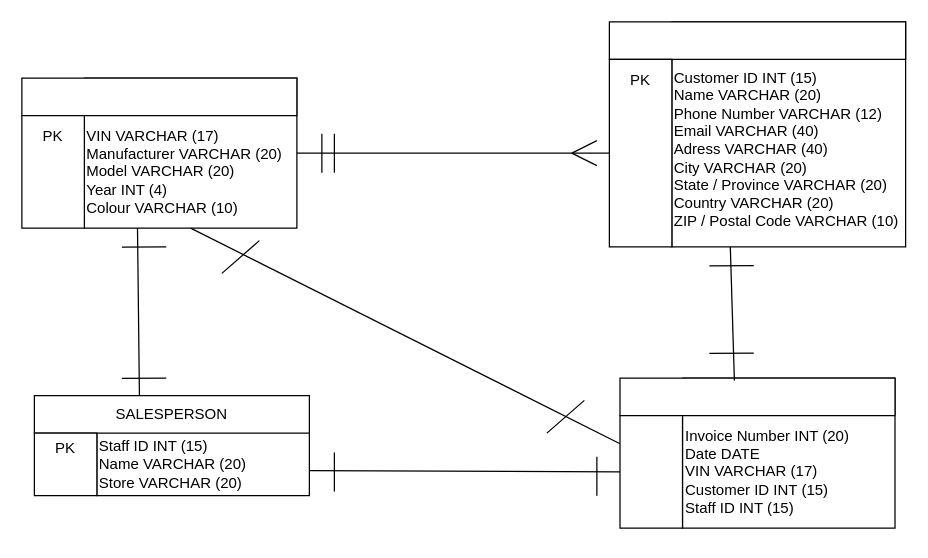
The diagram is 928 pixels wide and 558 high, and some of its shapes have lost their labels. The shapes that lost their labels are listed below. From the top down, each one's centre as x and y in pixels, then its label:
(x=757, y=40): CUSTOMERS
(x=159, y=96): CARS
(x=757, y=396): INVOICES
(x=650, y=471): PK FK FK FK
